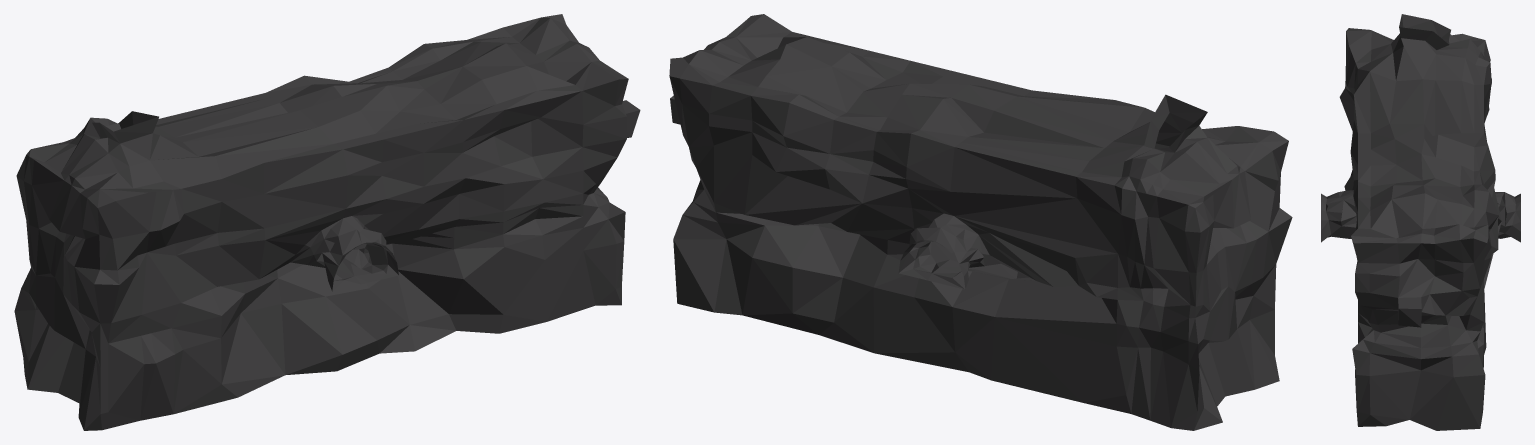
The model's file is Cave_10_LOD_1.fbx.
The picture shows the model from 3 angles, left to right: view 1: azimuth 30°, elevation 25°; view 2: azimuth 150°, elevation 25°; view 3: azimuth 270°, elevation 25°; orthographic projection. The views are drawn at different scales.
Parts seen in each view (by area): view 1: polySurface1252; view 2: polySurface1252; view 3: polySurface1252.
Boxes of the visible parts, box(x1,y1,x2,y2) form: polySurface1252: box(14, 14, 640, 430); polySurface1252: box(669, 14, 1292, 430); polySurface1252: box(1321, 14, 1520, 430).
Bounding box in the file's own units: 71.4 × 33.7 × 26.27.
